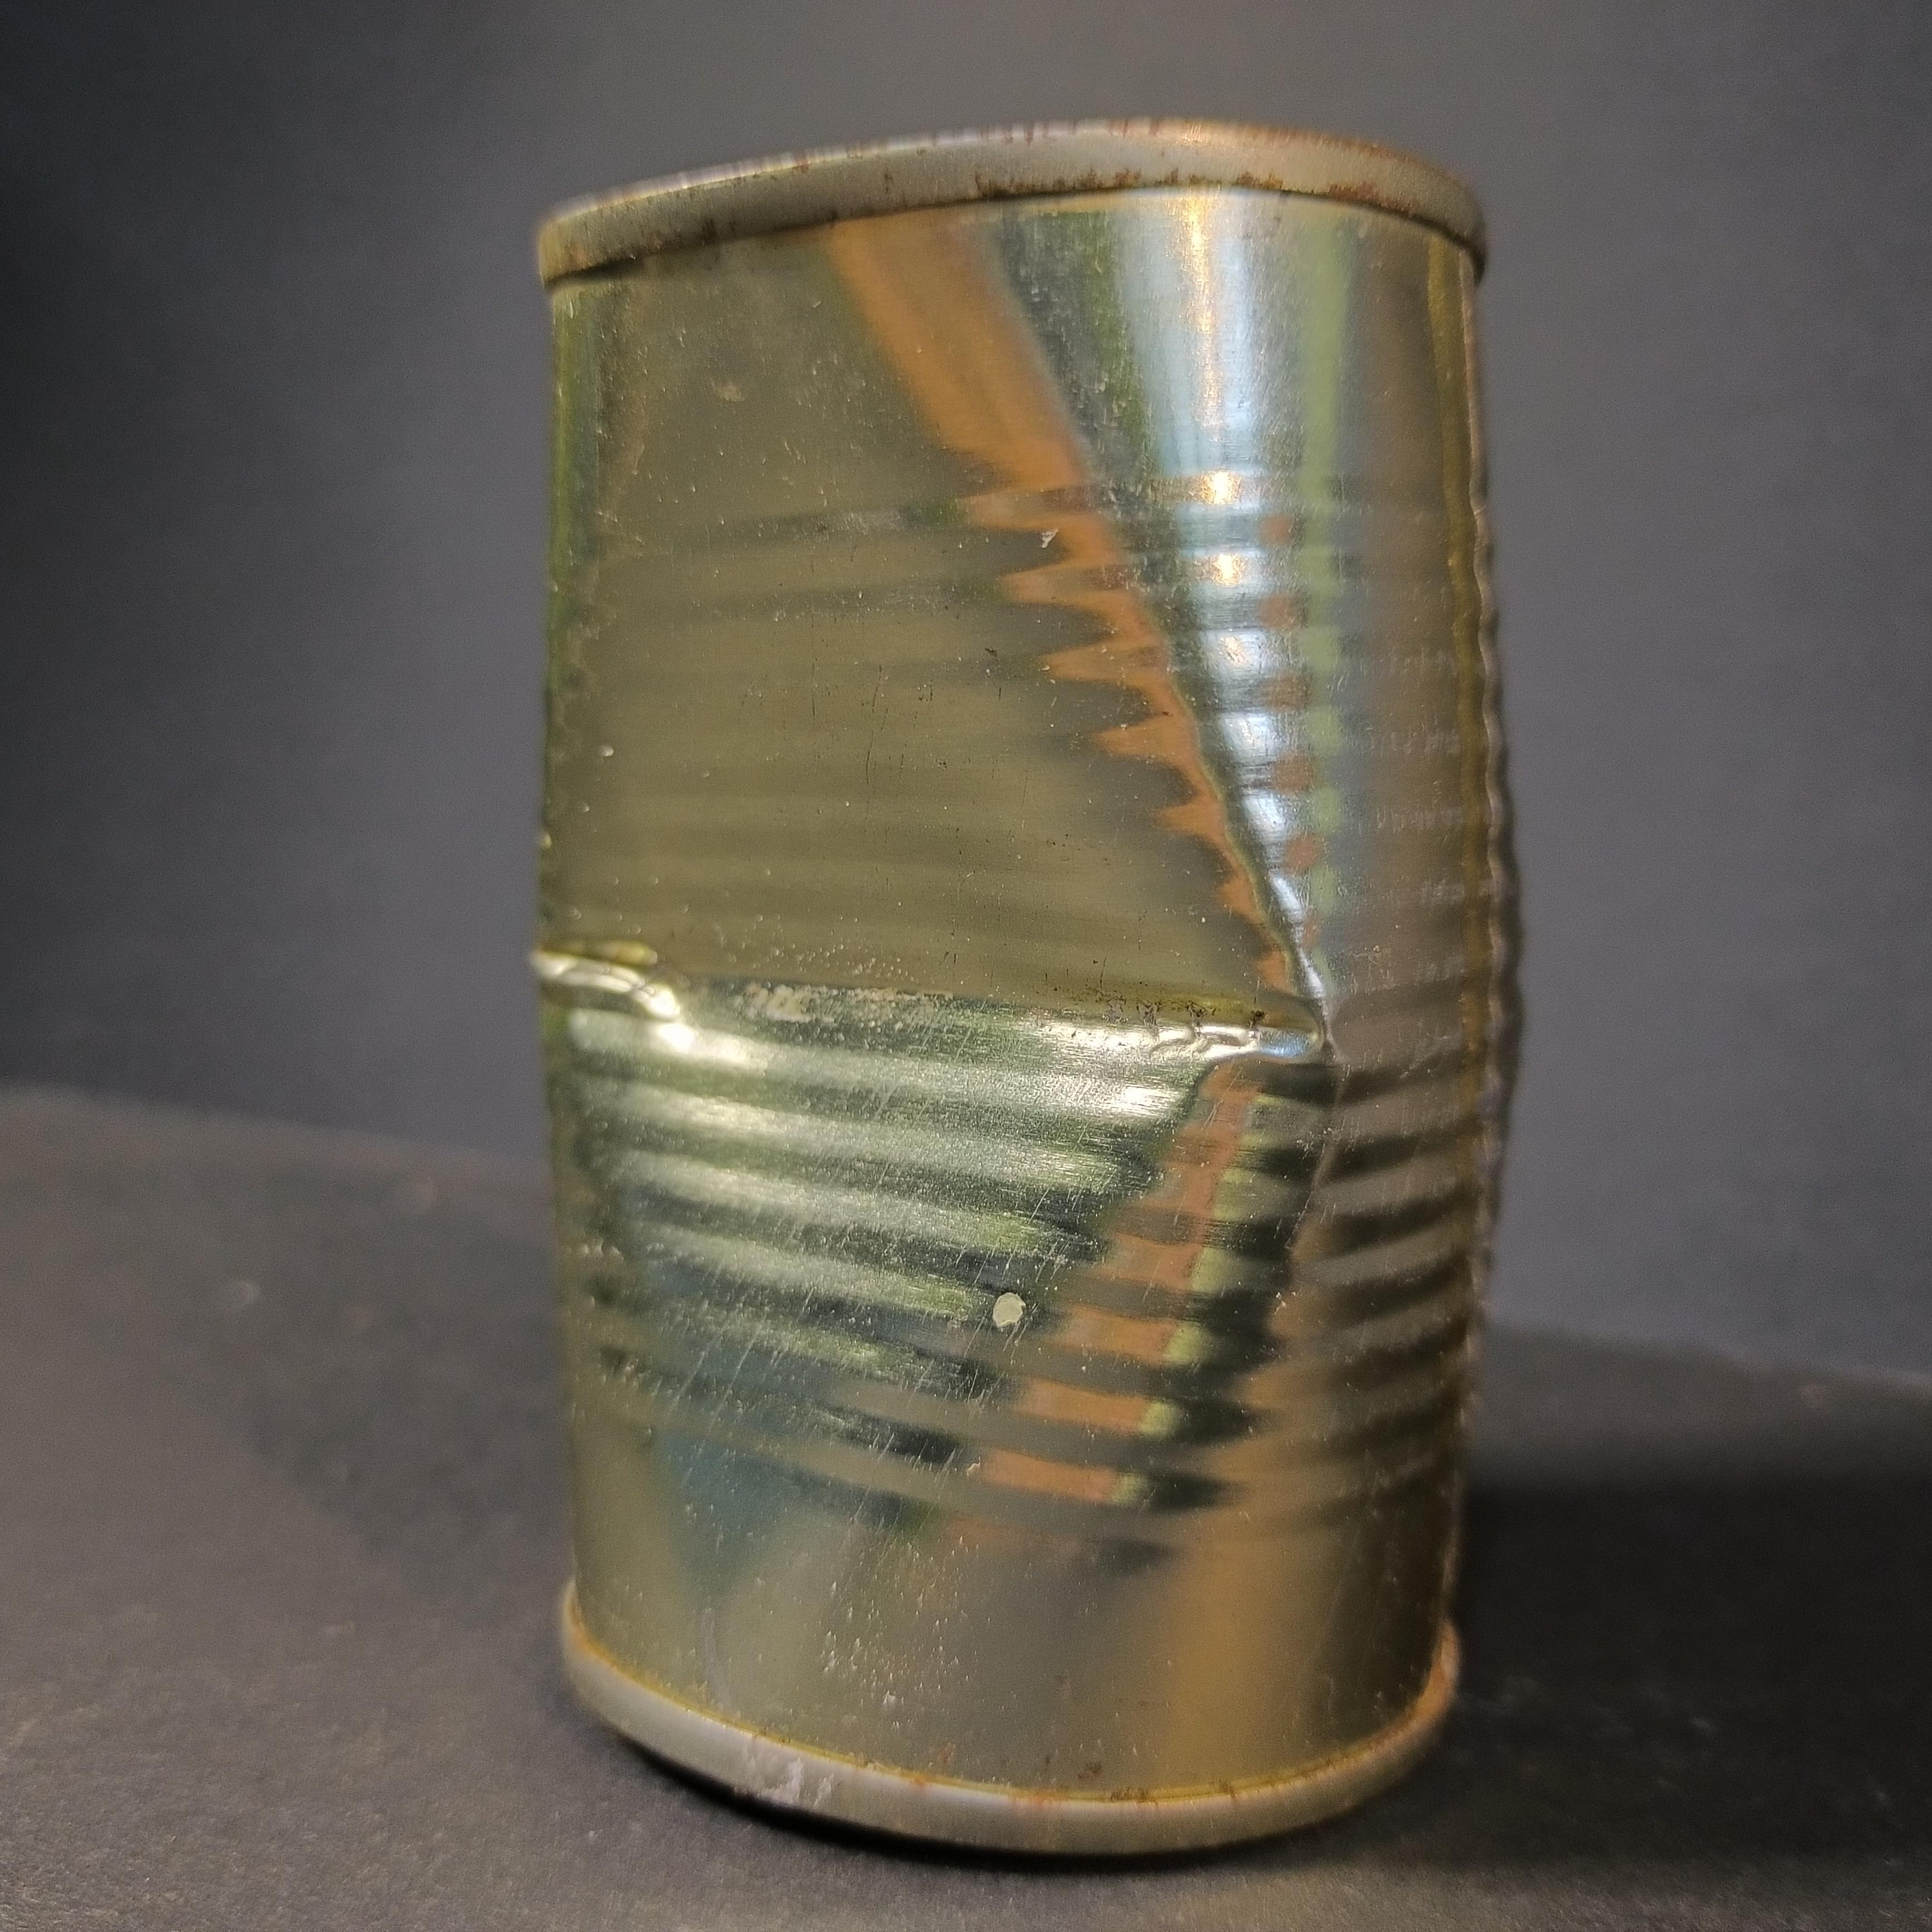Dented: (501, 64, 1539, 1881)
